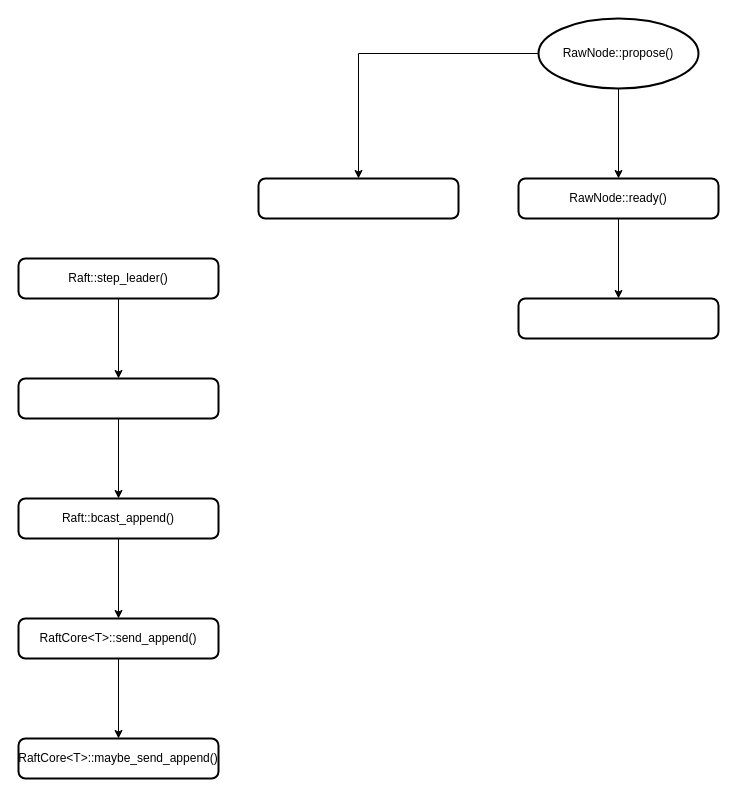
This 736x796 diagram has some shape labels left out. The box of each missing label's shape, as (x1, y1, x2, y2) in pixels:
Raft::append_entry(): (17, 377, 219, 419)
Raft::step(): (257, 177, 459, 219)
RawNode::advance(): (517, 297, 719, 339)
